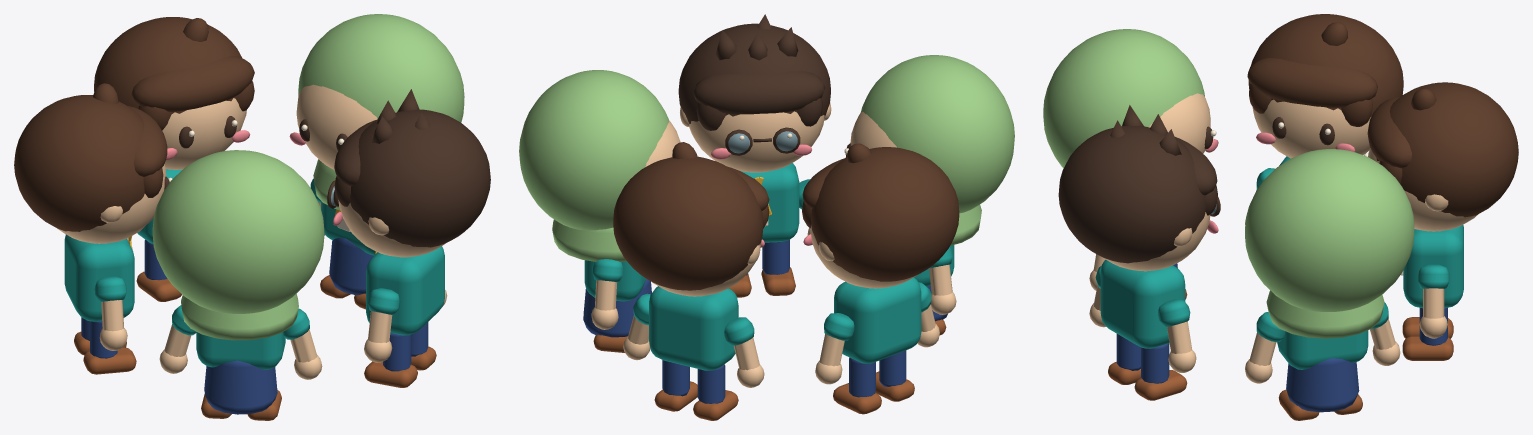
The model's file is crowd_cluster.glb.
3 views of the same model, side by side, from view 1: azimuth 30°, elevation 25°; view 2: azimuth 150°, elevation 25°; view 3: azimuth 270°, elevation 25° (orthographic). The views are drawn at different scales.
Parts seen in each view (by area): view 1: Tudung.004, Hair.007, Hair.008, Tudung.003, Hair.006, Torso.012, Fringe.005, Torso.014, Head.013, Head.012, Skirt.004, TudungDrape.004 (+27 smaller); view 2: Tudung.003, Hair.006, Hair.008, Tudung.004, Torso.010, Hair.007, Torso.014, Fringe.006, Head.014, Torso.012, TudungDrape.003, Skirt.003 (+34 smaller); view 3: Tudung.003, Hair.007, Tudung.004, Hair.006, Hair.008, Torso.012, Fringe.007, Head.016, Torso.010, Skirt.003, TudungDrape.003, Torso.011 (+25 smaller).
Boxes of the visible parts, left/top/right/bottom form: Tudung.004: left=152, top=150, right=324, bottom=313; Hair.007: left=350, top=109, right=490, bottom=247; Hair.008: left=14, top=95, right=144, bottom=231; Tudung.003: left=298, top=14, right=464, bottom=122; Hair.006: left=94, top=17, right=241, bottom=113; Torso.012: left=366, top=246, right=444, bottom=335; Fringe.005: left=131, top=56, right=254, bottom=111; Torso.014: left=64, top=234, right=134, bottom=321; Head.013: left=296, top=84, right=377, bottom=169; Head.012: left=162, top=98, right=246, bottom=169; Skirt.004: left=204, top=360, right=277, bottom=414; TudungDrape.004: left=181, top=293, right=298, bottom=340; Tudung.003: left=519, top=70, right=668, bottom=230; Hair.006: left=613, top=156, right=763, bottom=290; Hair.008: left=811, top=147, right=959, bottom=281; Tudung.004: left=860, top=55, right=1014, bottom=213; Torso.010: left=649, top=286, right=738, bottom=370; Hair.007: left=678, top=23, right=830, bottom=123; Torso.014: left=834, top=277, right=921, bottom=363; Fringe.006: left=693, top=71, right=825, bottom=114; Head.014: left=689, top=111, right=824, bottom=172; Torso.012: left=740, top=163, right=799, bottom=242; TudungDrape.003: left=552, top=219, right=626, bottom=261; Skirt.003: left=583, top=279, right=651, bottom=337; Tudung.003: left=1245, top=149, right=1414, bottom=311; Hair.007: left=1058, top=126, right=1205, bottom=263; Tudung.004: left=1043, top=29, right=1204, bottom=168; Hair.006: left=1376, top=82, right=1518, bottom=217; Hair.008: left=1248, top=14, right=1403, bottom=116; Torso.012: left=1100, top=259, right=1185, bottom=348; Fringe.007: left=1247, top=58, right=1377, bottom=107; Head.016: left=1252, top=99, right=1370, bottom=158; Torso.010: left=1403, top=225, right=1463, bottom=308; Skirt.003: left=1286, top=358, right=1359, bottom=412; TudungDrape.003: left=1266, top=290, right=1384, bottom=338; Torso.011: left=1277, top=330, right=1368, bottom=369.
Size of the model in its own units: 2.6 by 1.57 by 2.52.
